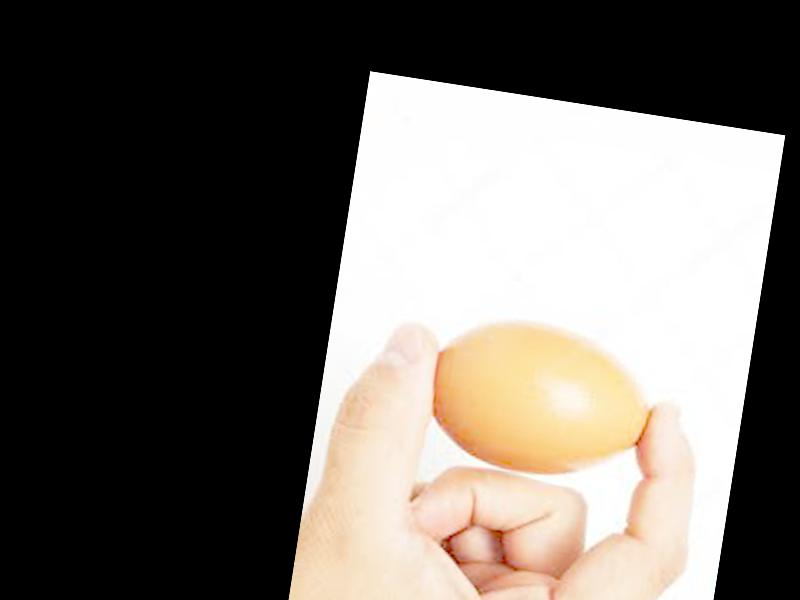Eggs: (421, 306, 664, 491)
